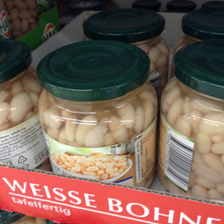beans: (37, 41, 155, 190), (161, 39, 224, 202)
